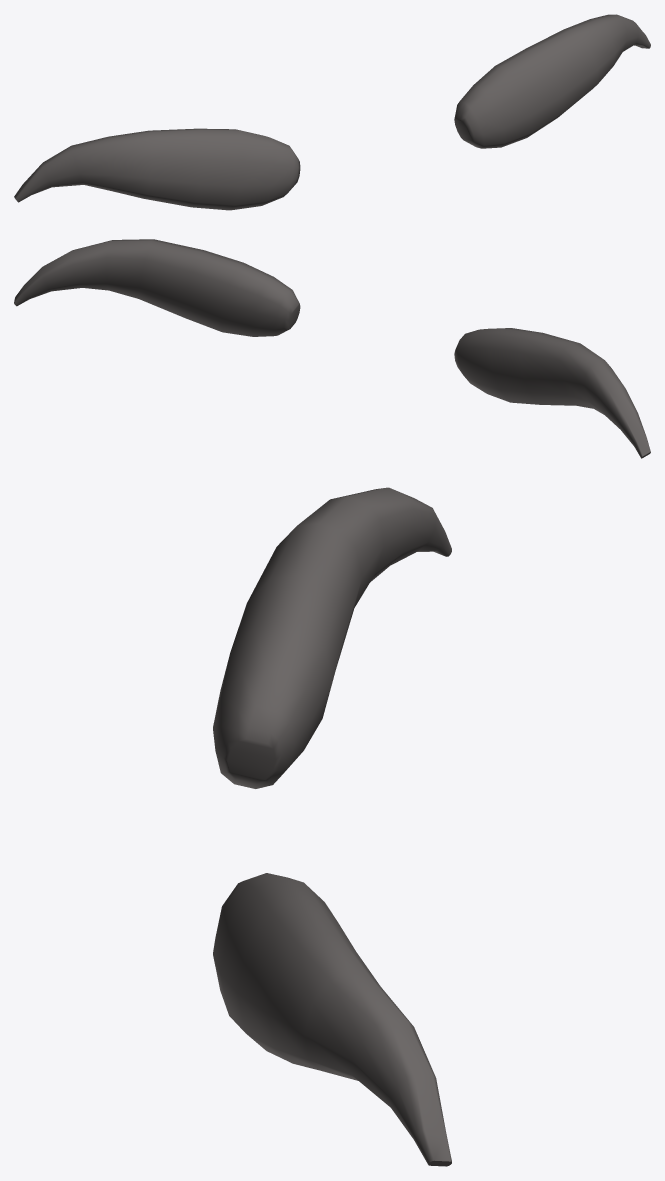
File: Eyebrows_23_04.fbx
3 views of the same model, one above another, from view 1: azimuth 30°, elevation 25°; view 2: azimuth 150°, elevation 25°; view 3: azimuth 270°, elevation 25° (orthographic). The views are drawn at different scales.
Parts seen in each view (by area): view 1: Eyebrows_23_04; view 2: Eyebrows_23_04; view 3: Eyebrows_23_04.
Boxes of the visible parts, left/top/right/bottom form: Eyebrows_23_04: left=14, top=14, right=650, bottom=210; Eyebrows_23_04: left=14, top=239, right=650, bottom=458; Eyebrows_23_04: left=213, top=487, right=451, bottom=1166.
Size of the model in its own units: 19.19 by 2.4 by 3.13.
